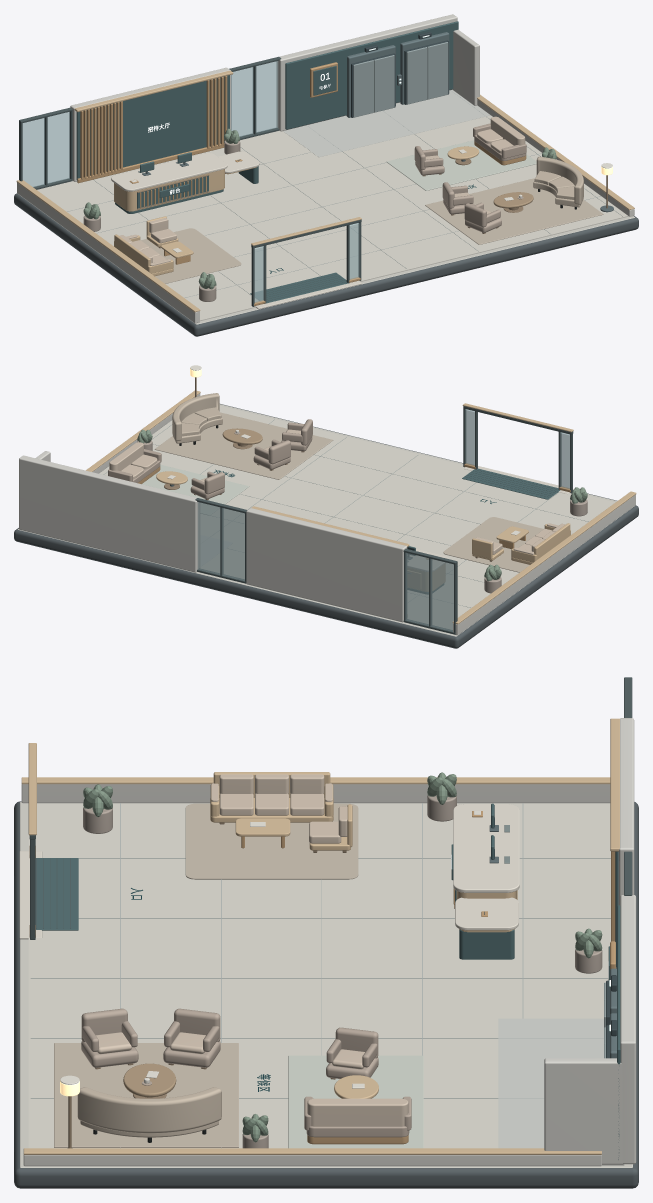
File: lobby.glb
The picture shows the model from 3 angles, top to bottom: view 1: azimuth 30°, elevation 25°; view 2: azimuth 150°, elevation 25°; view 3: azimuth 270°, elevation 25°; orthographic projection. The views are drawn at different scales.
Visible parts, largest first — view 1: OfficeSurface_03, OfficeSurface_08, OfficeSurface_01, OfficeOccluder_21, OfficeSurface_37, OfficeSurface_34, OfficeSurface_06, OfficeOccluder_20, OfficeOccluder_23, OfficeSurface_32, OfficeSurface_07, OfficeSurface_35 (+22 smaller); view 2: OfficeSurface_03, OfficeOccluder_20, OfficeSurface_01, OfficeSurface_37, OfficeSurface_06, OfficeSurface_35, OfficeSurface_05, OfficeOccluder_13, OfficeSurface_38, OfficeSurface_39, OfficeSurface_15, OfficeSurface_17 (+15 smaller); view 3: OfficeSurface_03, OfficeSurface_37, OfficeSurface_01, OfficeSurface_05, OfficeOccluder_20, OfficeSurface_06, OfficeSurface_39, OfficeSurface_07, OfficeSurface_34, OfficeSurface_35, OfficeSurface_42, OfficeSurface_08 (+10 smaller).
Boxes of the visible parts, x1=… form: OfficeSurface_03: x1=37, y1=115, x2=628, y2=321; OfficeSurface_08: x1=115, y1=21, x2=458, y2=303; OfficeSurface_01: x1=14, y1=193, x2=638, y2=336; OfficeOccluder_21: x1=76, y1=75, x2=229, y2=179; OfficeSurface_37: x1=141, y1=178, x2=603, y2=283; OfficeSurface_34: x1=283, y1=89, x2=490, y2=157; OfficeSurface_06: x1=16, y1=94, x2=634, y2=312; OfficeOccluder_20: x1=70, y1=14, x2=479, y2=181; OfficeOccluder_23: x1=77, y1=76, x2=227, y2=183; OfficeSurface_32: x1=353, y1=42, x2=448, y2=117; OfficeSurface_07: x1=111, y1=151, x2=361, y2=309; OfficeSurface_35: x1=414, y1=123, x2=526, y2=232; OfficeSurface_03: x1=99, y1=405, x2=615, y2=629; OfficeOccluder_20: x1=19, y1=451, x2=407, y2=622; OfficeSurface_01: x1=14, y1=404, x2=638, y2=648; OfficeSurface_37: x1=154, y1=412, x2=543, y2=572; OfficeSurface_06: x1=86, y1=390, x2=636, y2=624; OfficeSurface_35: x1=108, y1=419, x2=312, y2=499; OfficeSurface_05: x1=92, y1=393, x2=635, y2=635; OfficeOccluder_13: x1=195, y1=498, x2=457, y2=634; OfficeSurface_38: x1=172, y1=393, x2=222, y2=443; OfficeSurface_39: x1=109, y1=429, x2=565, y2=554; OfficeSurface_15: x1=405, y1=553, x2=428, y2=625; OfficeSurface_17: x1=197, y1=502, x2=220, y2=574; OfficeSurface_03: x1=28, y1=803, x2=610, y2=1148; OfficeSurface_37: x1=54, y1=803, x2=358, y2=1147; OfficeSurface_01: x1=14, y1=801, x2=638, y2=1188; OfficeSurface_05: x1=21, y1=784, x2=610, y2=1166; OfficeOccluder_20: x1=544, y1=718, x2=636, y2=1164; OfficeSurface_06: x1=21, y1=743, x2=610, y2=1154; OfficeSurface_39: x1=96, y1=774, x2=408, y2=1126; OfficeSurface_07: x1=19, y1=804, x2=519, y2=939; OfficeSurface_34: x1=498, y1=1018, x2=624, y2=1165; OfficeSurface_35: x1=81, y1=1008, x2=411, y2=1137; OfficeSurface_42: x1=288, y1=1055, x2=423, y2=1148; OfficeSurface_08: x1=35, y1=803, x2=620, y2=1159.
Size of the model in its own units: 18.7 by 3.49 by 13.3.
